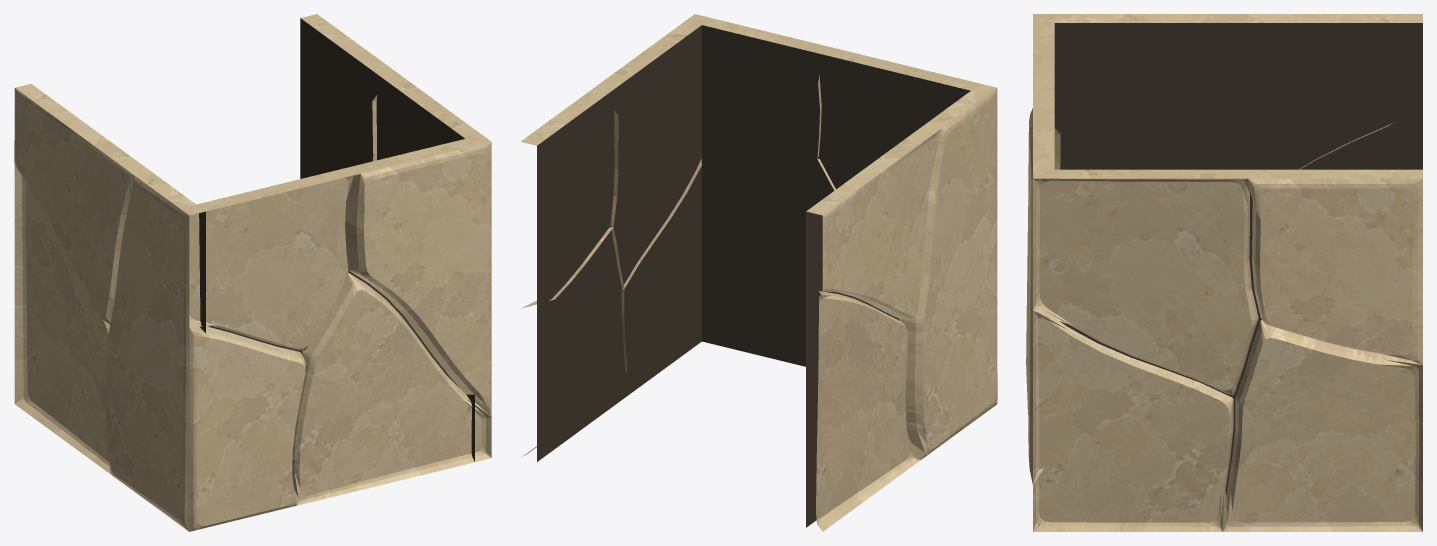
Rendered from ground_square_end_07.glb.
The picture shows the model from 3 angles, left to right: view 1: azimuth 30°, elevation 25°; view 2: azimuth 150°, elevation 25°; view 3: azimuth 270°, elevation 25°; orthographic projection. The views are drawn at different scales.
Visible parts, largest first — view 1: GroundSquareEnd07_Body; view 2: GroundSquareEnd07_Body; view 3: GroundSquareEnd07_Body.
Part boxes in pixels (left/top/right/bottom): GroundSquareEnd07_Body: left=14, top=14, right=491, bottom=531; GroundSquareEnd07_Body: left=520, top=14, right=997, bottom=531; GroundSquareEnd07_Body: left=1026, top=14, right=1422, bottom=531.
Size of the model in its own units: 1.03 by 1 by 1.02.
Materials: 13 (12 with a texture image).
